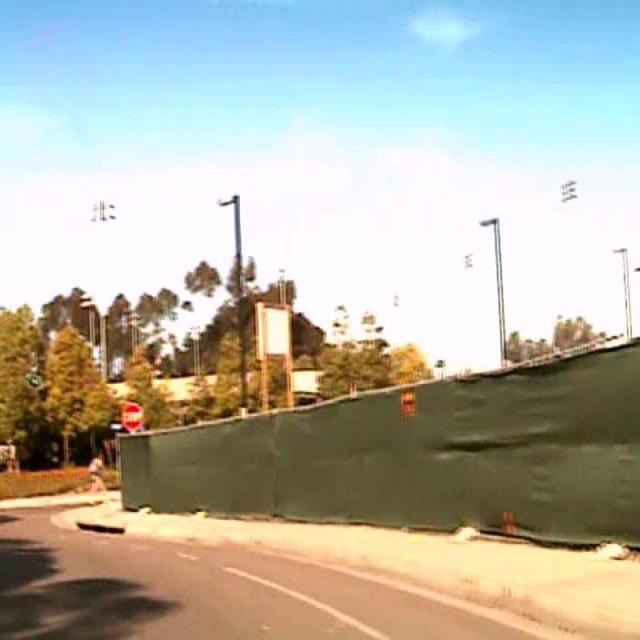stop_sign: (122, 401, 143, 431)
